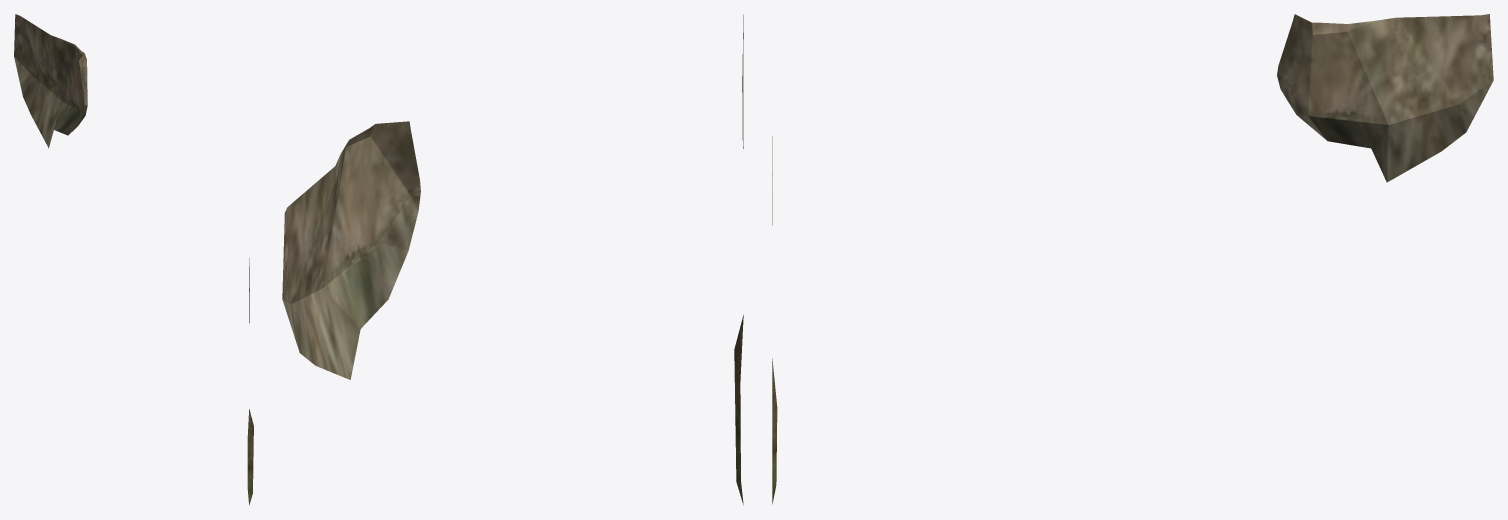
3 views of the same model, side by side, from view 1: azimuth 30°, elevation 25°; view 2: azimuth 150°, elevation 25°; view 3: azimuth 270°, elevation 25° (orthographic). The views are drawn at different scales.
Bounding box in the file's own units: 0.108 × 2.19 × 2.91.
Materials: 1 (1 with a texture image).
